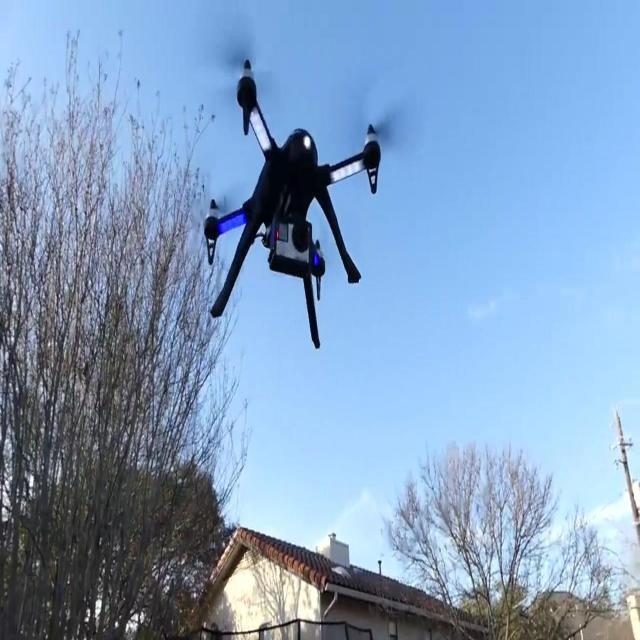UAV: (232, 59, 392, 313)
